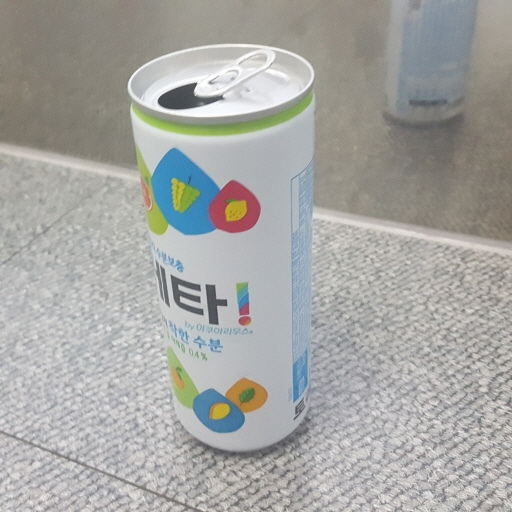Metal_0: (124, 39, 321, 458)
